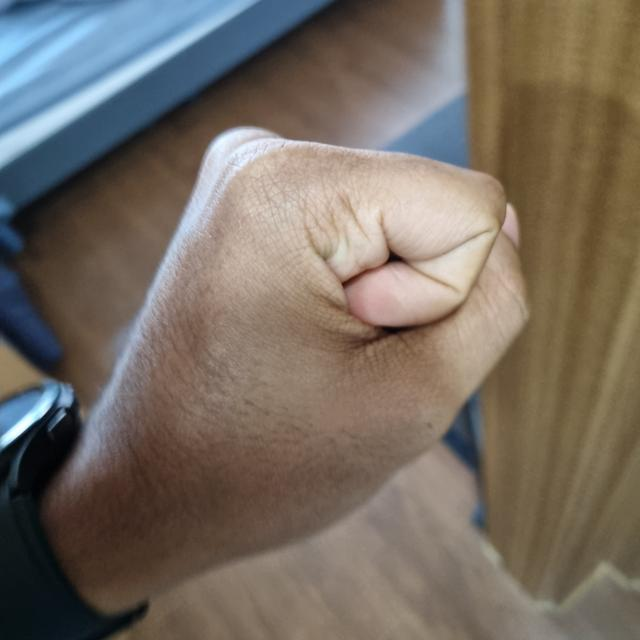Rock: (71, 145, 516, 572)
